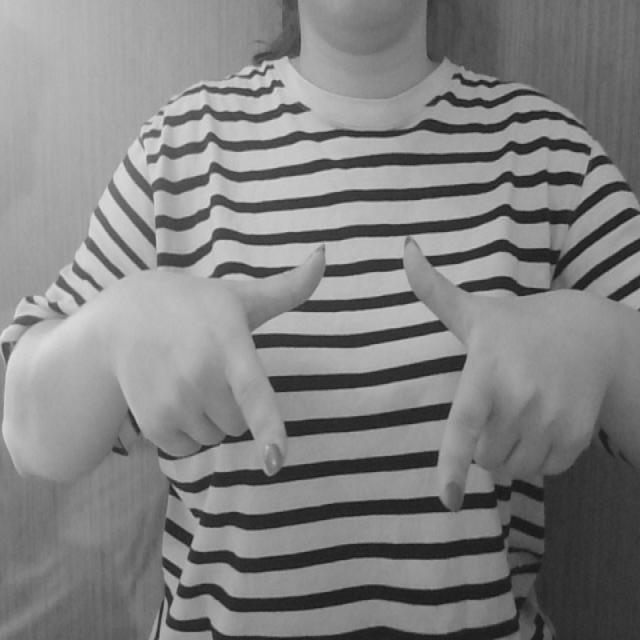Nerede: (225, 231, 529, 525)
